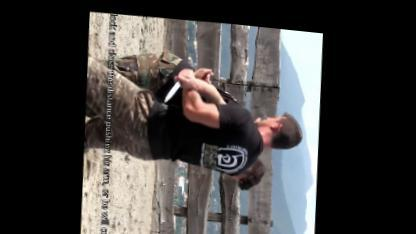knife: (164, 59, 198, 102)
